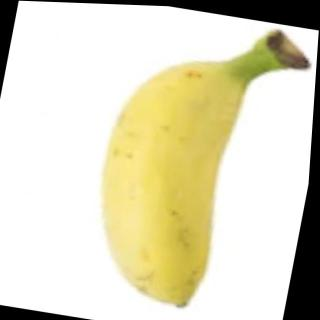banana: (78, 43, 258, 315)
